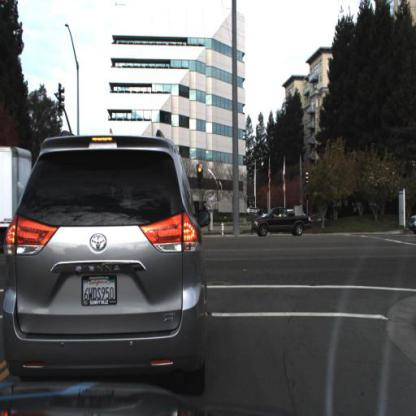car: (2, 127, 215, 397), (252, 204, 313, 238)
truck: (1, 138, 35, 232)
